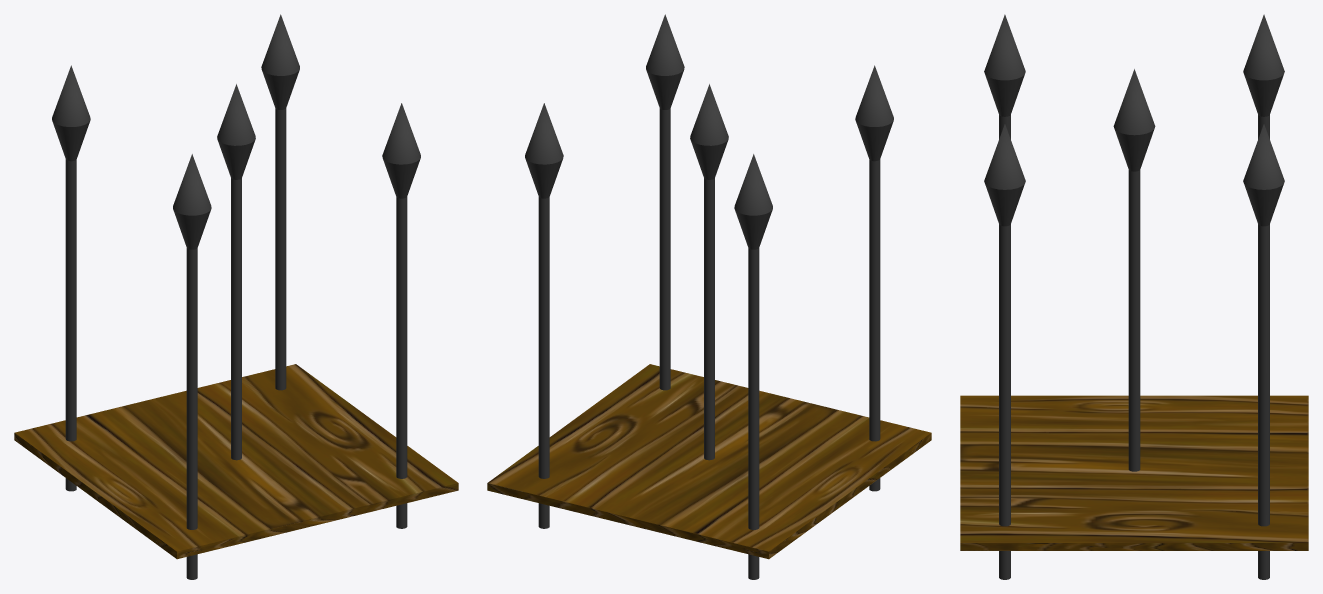
Rendered from SPEARED.fbx.
3 renders of one model, left to right at view 1: azimuth 30°, elevation 25°; view 2: azimuth 150°, elevation 25°; view 3: azimuth 270°, elevation 25°, orthographic. The views are drawn at different scales.
Visible parts, largest first — view 1: pCube10, group5_pasted__pCone1; view 2: pCube10, group5_pasted__pCone1; view 3: pCube10, group5_pasted__pCone1.
Part boxes in pixels (<box>): pCube10: <box>14,364,458,559</box>; group5_pasted__pCone1: <box>52,14,420,579</box>; pCube10: <box>487,364,931,559</box>; group5_pasted__pCone1: <box>525,14,893,579</box>; pCube10: <box>960,395,1308,550</box>; group5_pasted__pCone1: <box>984,14,1284,579</box>.
Bounding box in the file's own units: 13.44 × 19.34 × 13.44.
Materials: 2 (1 with a texture image).
